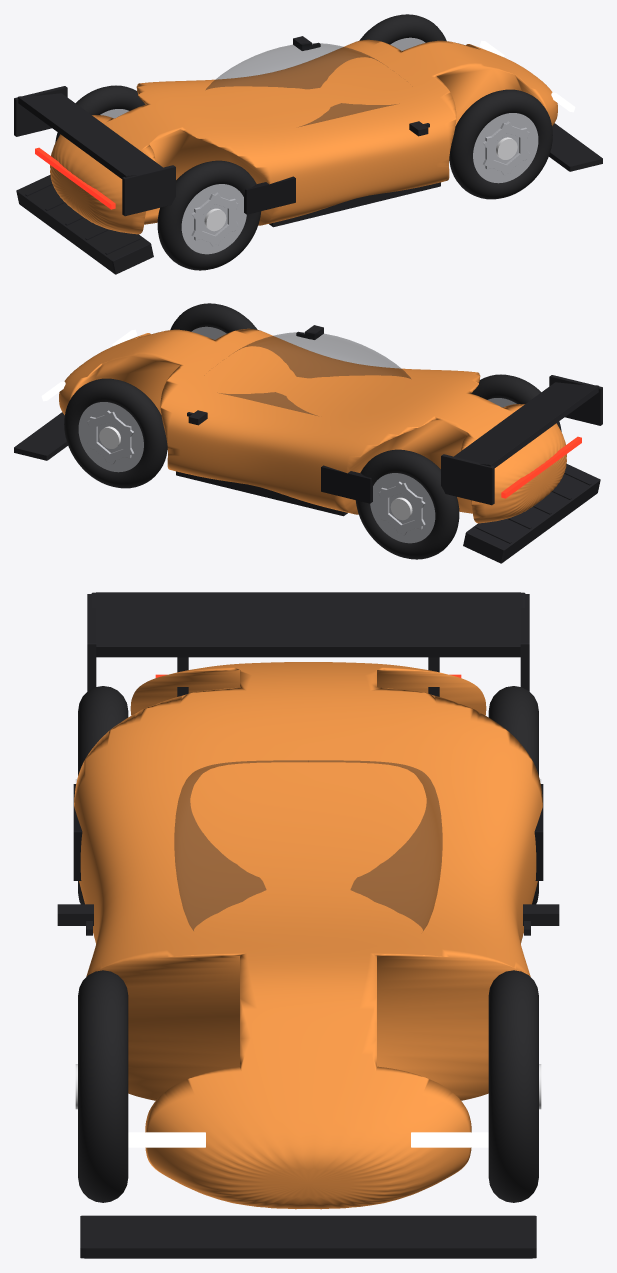
Rendered from veloce-gt01.glb.
3 renders of one model, top to bottom at view 1: azimuth 30°, elevation 25°; view 2: azimuth 150°, elevation 25°; view 3: azimuth 270°, elevation 25°, orthographic. The views are drawn at different scales.
Parts seen in each view (by area): view 1: Body, Tire_FR, Cabin, Tire_RR, Wing, Diffuser, Barrel_FR, Barrel_RR, WingEnd_-0.95, Tire_FL, Splitter, Tire_RL (+6 smaller); view 2: Body, Tire_FL, Cabin, Tire_RL, Wing, Diffuser, Barrel_FL, Barrel_RL, WingEnd_0.95, Tire_FR, Splitter, Tire_RR (+6 smaller); view 3: Body, Wing, Splitter, Cabin, Tire_FL, Tire_FR, Tire_RL, Tire_RR, Head_0.62, Head_-0.62, WingEnd_0.95, WingEnd_-0.95.
Boxes of the visible parts, bbox=[...] form: Body: bbox=[50, 39, 557, 234]; Tire_FR: bbox=[449, 89, 552, 199]; Cabin: bbox=[206, 43, 395, 126]; Tire_RR: bbox=[157, 160, 261, 270]; Wing: bbox=[18, 93, 162, 178]; Diffuser: bbox=[16, 175, 153, 274]; Barrel_FR: bbox=[473, 113, 538, 183]; Barrel_RR: bbox=[181, 184, 246, 254]; WingEnd_-0.95: bbox=[122, 165, 175, 216]; Tire_FL: bbox=[359, 14, 446, 44]; Splitter: bbox=[549, 123, 602, 171]; Tire_RL: bbox=[55, 85, 145, 142]; Body: bbox=[59, 328, 566, 523]; Tire_FL: bbox=[64, 378, 167, 488]; Cabin: bbox=[221, 332, 410, 415]; Tire_RL: bbox=[355, 449, 459, 559]; Wing: bbox=[454, 382, 598, 467]; Diffuser: bbox=[463, 464, 600, 563]; Barrel_FL: bbox=[78, 402, 143, 472]; Barrel_RL: bbox=[370, 473, 435, 543]; WingEnd_0.95: bbox=[441, 454, 494, 505]; Tire_FR: bbox=[170, 303, 257, 333]; Splitter: bbox=[14, 412, 67, 460]; Tire_RR: bbox=[471, 374, 561, 431]; Body: bbox=[74, 662, 542, 1209]; Wing: bbox=[91, 592, 525, 657]; Splitter: bbox=[80, 1215, 536, 1258]; Cabin: bbox=[174, 760, 442, 930]; Tire_FL: bbox=[488, 970, 538, 1202]; Tire_FR: bbox=[78, 970, 128, 1202]; Tire_RL: bbox=[488, 686, 538, 904]; Tire_RR: bbox=[78, 686, 128, 904]; Head_0.62: bbox=[411, 1132, 488, 1147]; Head_-0.62: bbox=[128, 1132, 205, 1147]; WingEnd_0.95: bbox=[520, 594, 529, 691]; WingEnd_-0.95: bbox=[87, 594, 96, 691].
Size of the model in its own units: 4.88 by 1.25 by 2.2.
